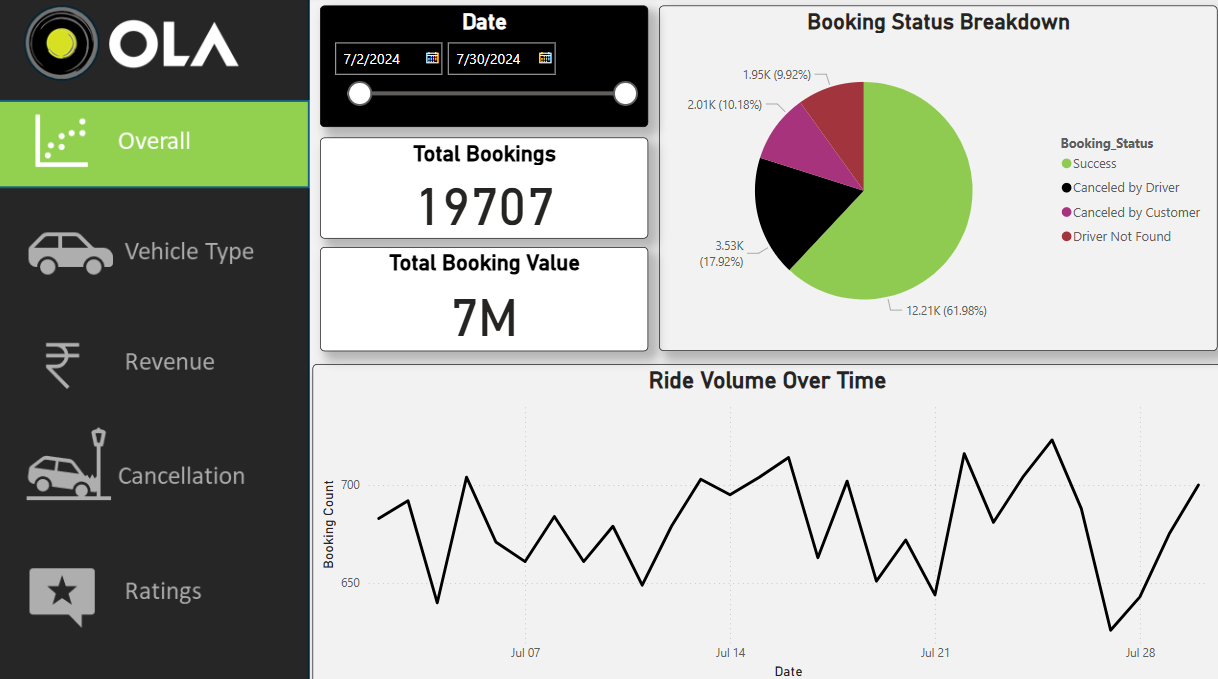

The page's visual inventory and layout, read from the dashboard file:
{"tool":"powerbi","page":{"name":" Overall","canvas":[1280,720],"ordinal":0},"visuals":[{"type":"actionButton","box":[0,217.5,322.5,92.5],"z":0},{"type":"actionButton","box":[0,337.5,322.5,92.5],"z":1000},{"type":"actionButton","box":[0,447.5,322.5,92.5],"z":2000},{"type":"actionButton","box":[0,578.8,322.5,92.5],"z":3000},{"type":"actionButton","box":[10,457.5,322.5,92.5],"z":4000},{"type":"lineChart","title":"Ride Volume Over Time","fields":{"Y":["CountNonNull(July.Booking_ID)"],"Category":["July.Date"]},"box":[327.1,384.3,947.1,335.7],"z":5000},{"type":"pieChart","title":"Booking Status Breakdown","fields":{"Category":["July.Booking_Status"],"Y":["CountNonNull(July.Booking_Status)"]},"box":[688.3,11.7,581.7,360],"z":6000},{"type":"slicer","title":"Date","fields":{"Values":["July.Date"]},"box":[335,11.7,341.7,126.7],"z":7000},{"type":"card","title":"Total Bookings","fields":{"Values":["CountNonNull(July.Booking_ID)"]},"box":[335,148.3,341.7,105],"z":8000},{"type":"card","title":"Total Booking Value","fields":{"Values":["Sum(July.Booking_Value)"]},"box":[335,263.3,341.7,108.3],"z":9000}]}

Visuals, with their boxes in screenshot pixels (x1, y1, x2, y2), scaled from the page's 1280x720 canvas onto the 1218x679 screenshot:
actionButton: 0, 205, 307, 292
actionButton: 0, 318, 307, 406
actionButton: 0, 422, 307, 509
actionButton: 0, 546, 307, 633
actionButton: 10, 431, 316, 519
"Ride Volume Over Time" lineChart: 311, 362, 1212, 678
"Booking Status Breakdown" pieChart: 655, 11, 1208, 351
"Date" slicer: 319, 11, 644, 131
"Total Bookings" card: 319, 140, 644, 239
"Total Booking Value" card: 319, 248, 644, 350
